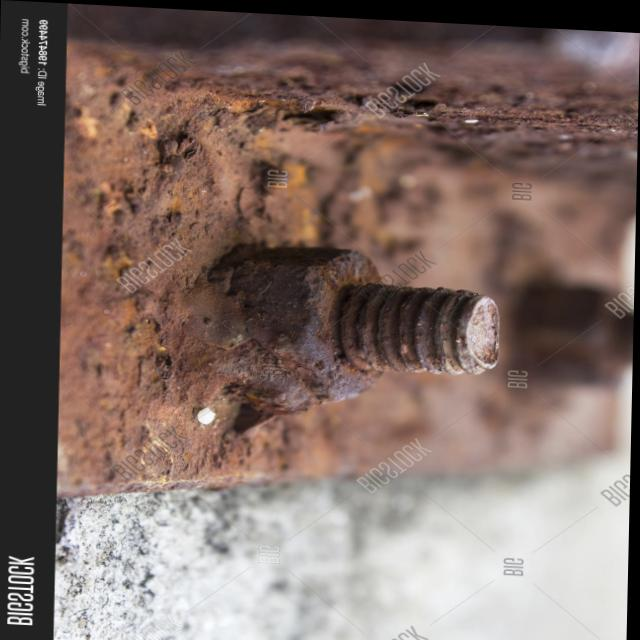Rusty bolt: (239, 238, 468, 404)
